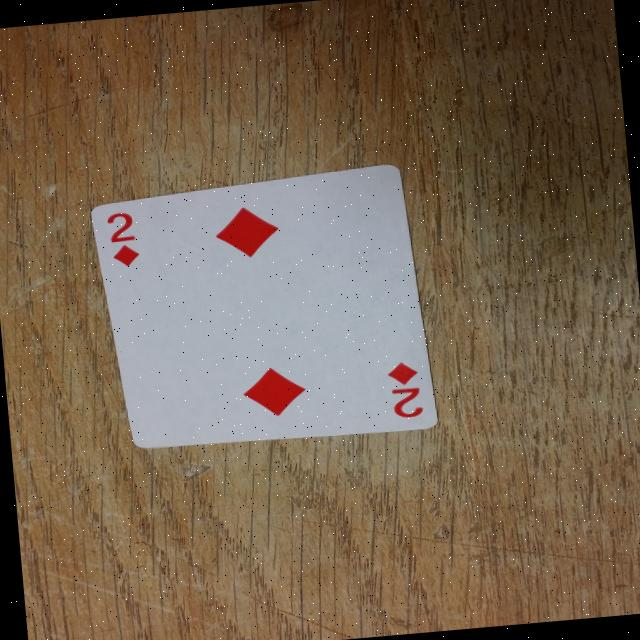2d: (368, 347, 431, 428), (90, 202, 156, 274)
